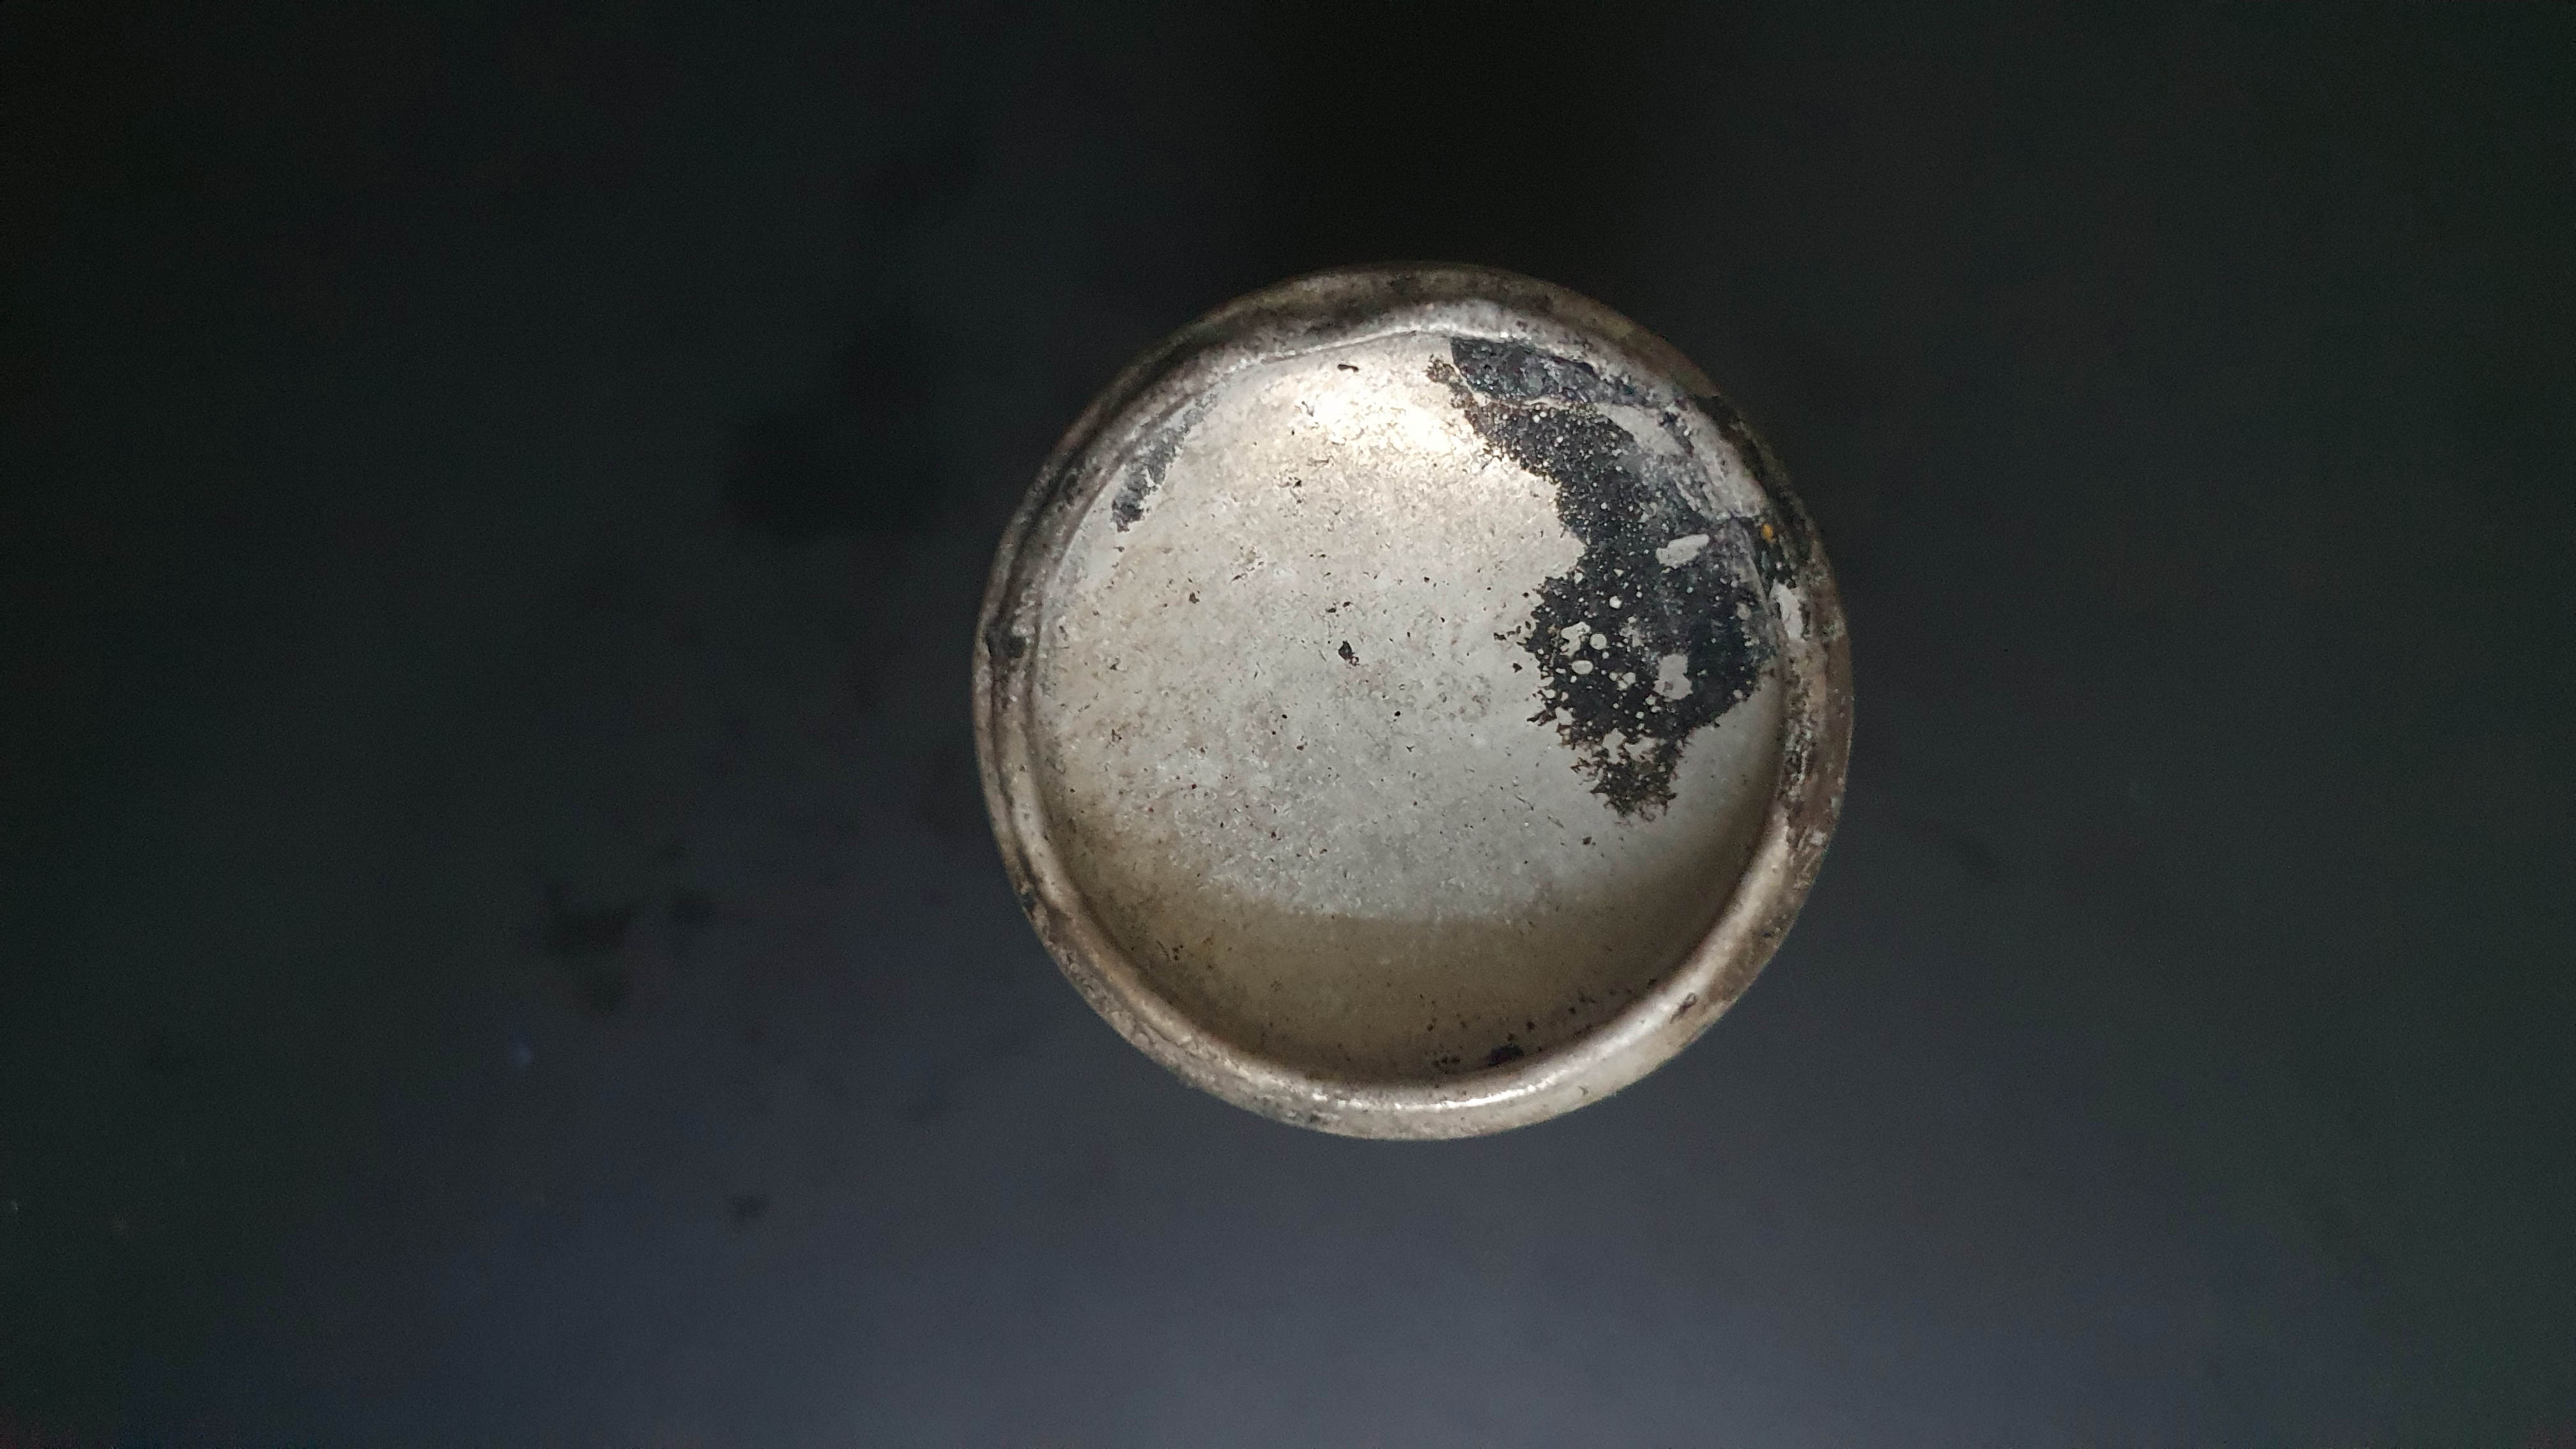metal: (954, 207, 1888, 1187)
